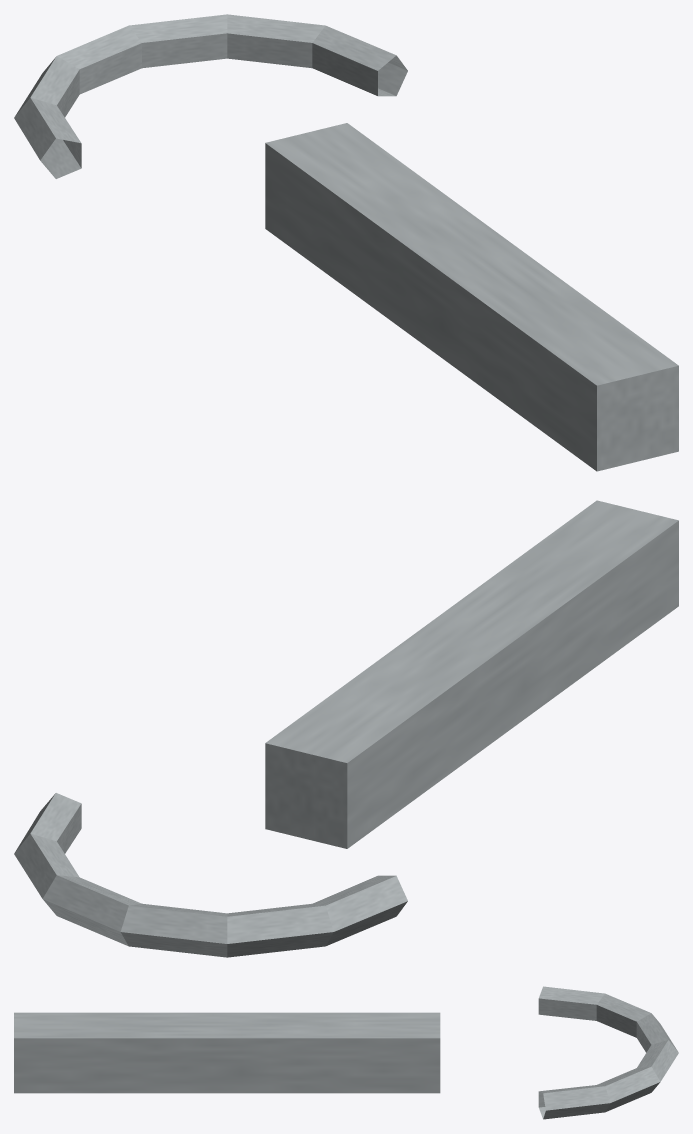
The model's file is body.obj.
3 views of the same model, one above another, from view 1: azimuth 30°, elevation 25°; view 2: azimuth 150°, elevation 25°; view 3: azimuth 270°, elevation 25° (orthographic). The views are drawn at different scales.
Bounding box in the file's own units: 0.269 × 0.06 × 0.655.
